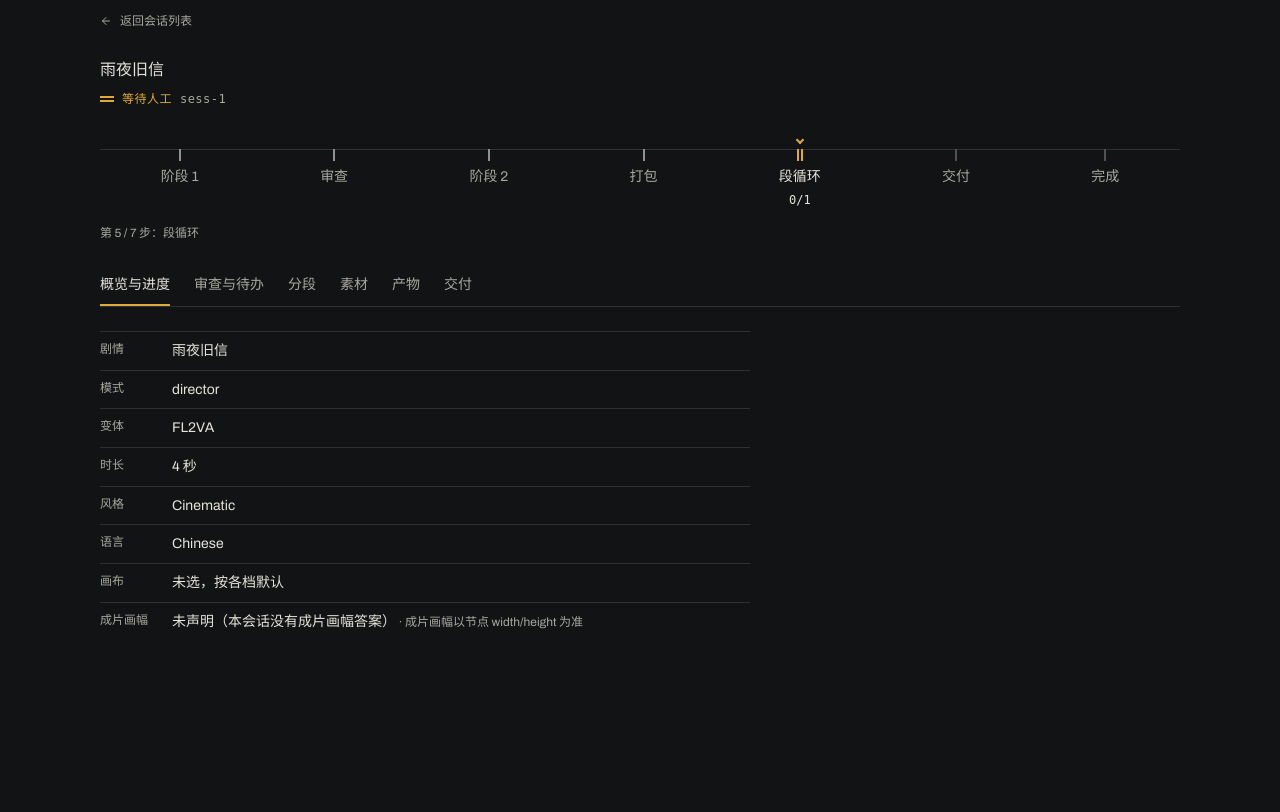
Test: SessionDetailView 导演台分段分区（#262） › 短视频导演台会话也有分段分区，并显示帧网格与总长说明
This screenshot has width=1280, height=812.
Click the tab "分段" at (302, 286), box [288,266,316,306]
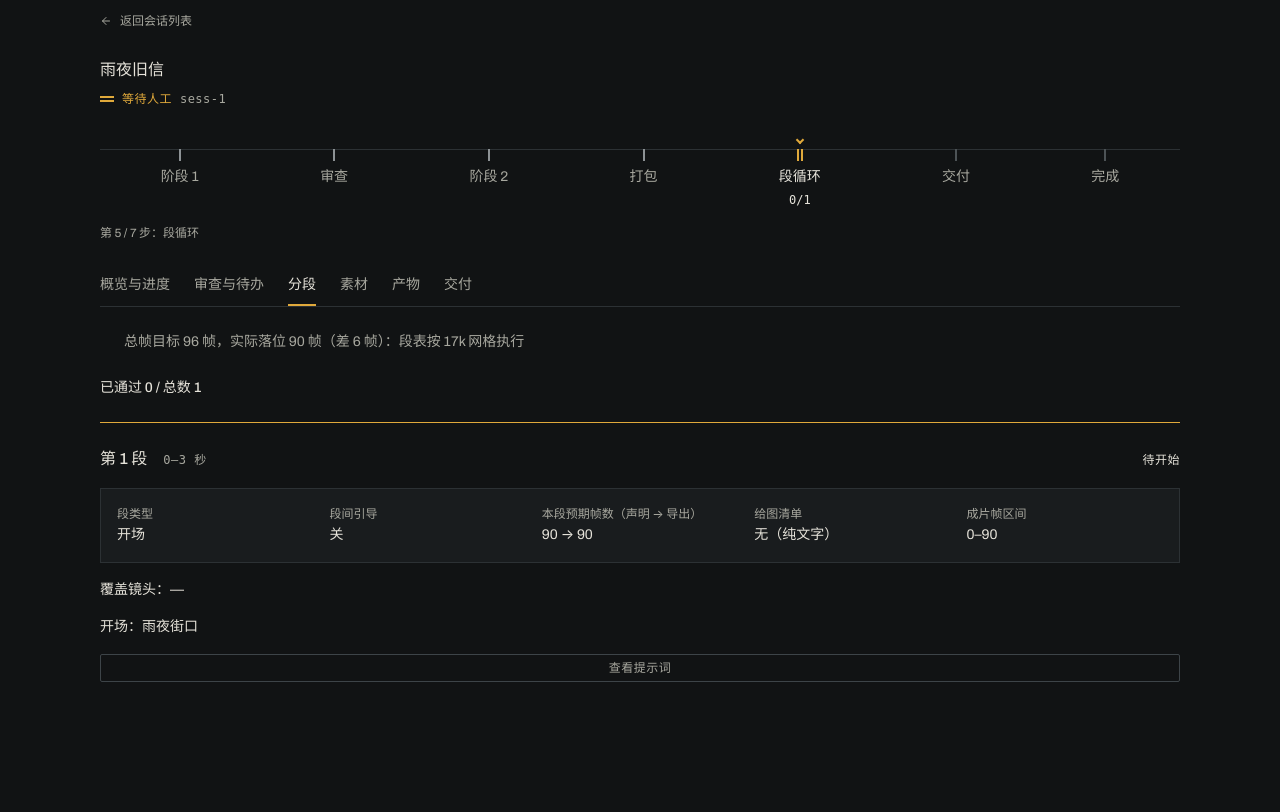
Result: the panel with id "workbench-panel-segments" shows "90 → 90" at [542,527,593,542]
Result: the panel with id "workbench-panel-segments" shows "差 6 帧" at [124,334,524,349]
